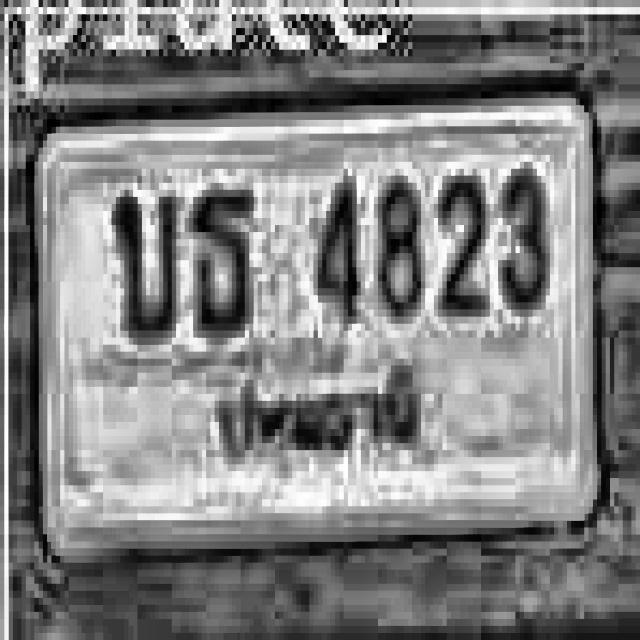license-plate: (24, 86, 609, 588)
